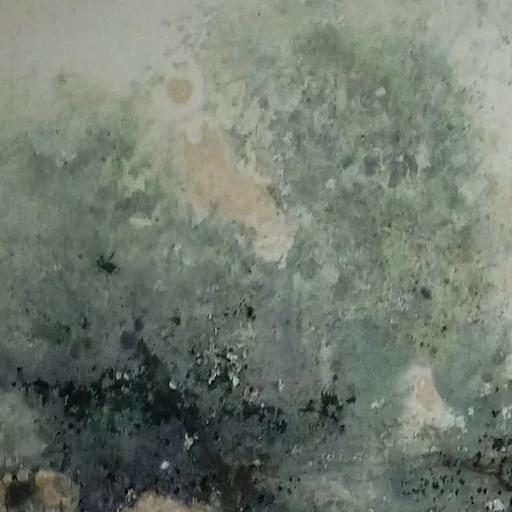algae: (13, 62, 512, 512)
